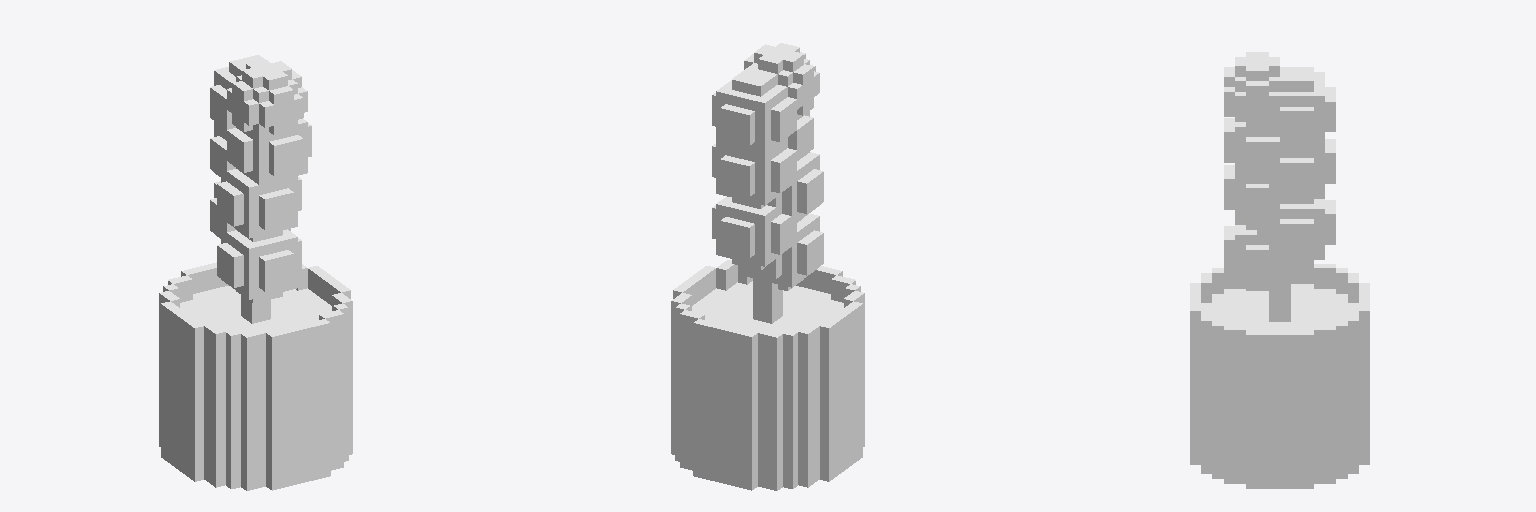
File: small-plant-1.obj
The picture shows the model from 3 angles: view 1: azimuth 30°, elevation 25°; view 2: azimuth 150°, elevation 25°; view 3: azimuth 270°, elevation 25°; orthographic projection.
Parts seen in each view (by area): view 1: object 1; view 2: object 1; view 3: object 1.
Part boxes in pixels (x1,y1,x2,y2): object 1: (159,55,352,490); object 1: (671,43,864,490); object 1: (1190,52,1369,488).
Bounding box in the file's own units: 1.6 × 3.8 × 1.6.